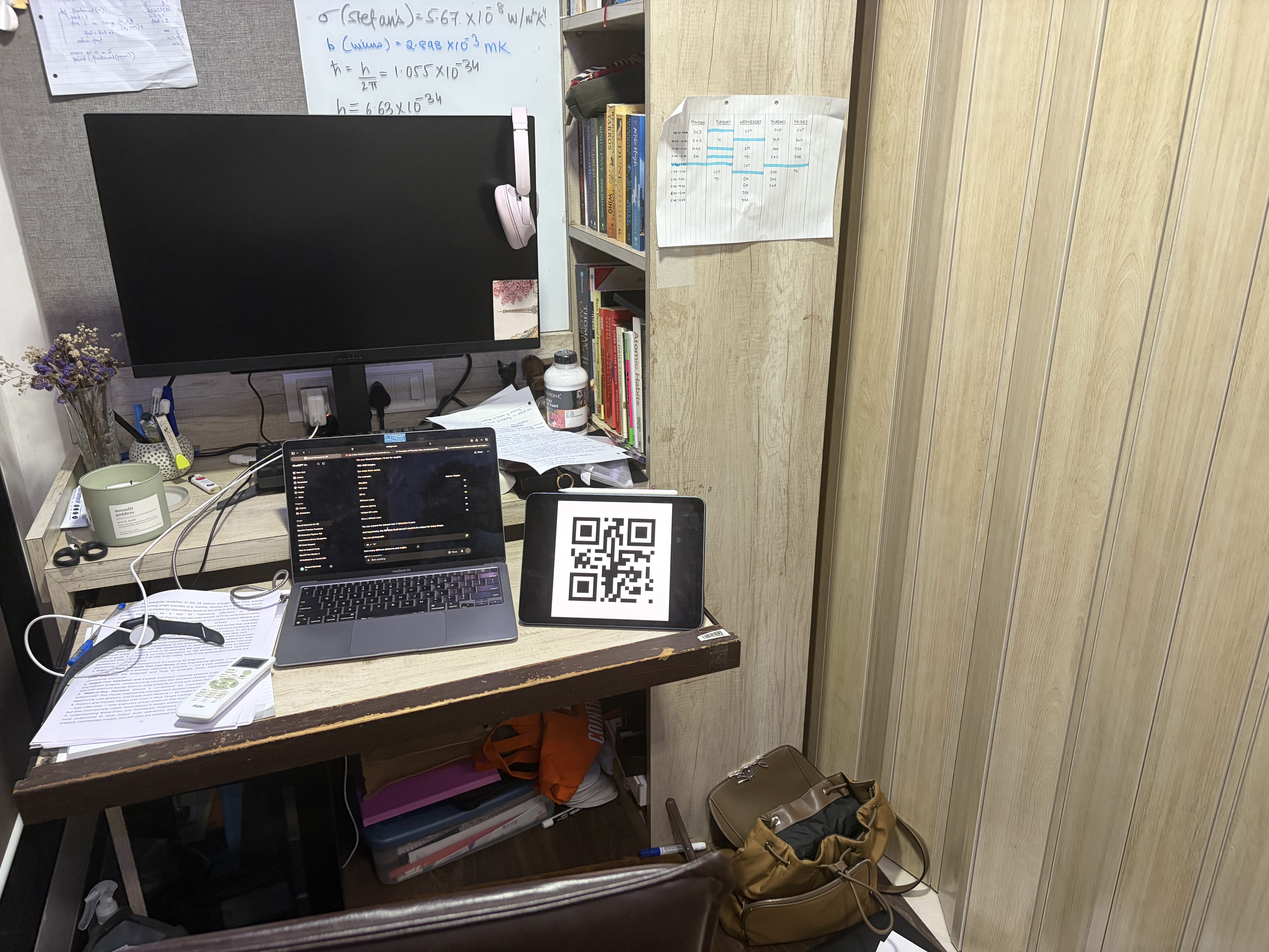QR: (566, 510, 658, 610)
